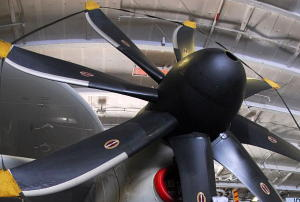Propeller: (68, 10, 289, 196)
